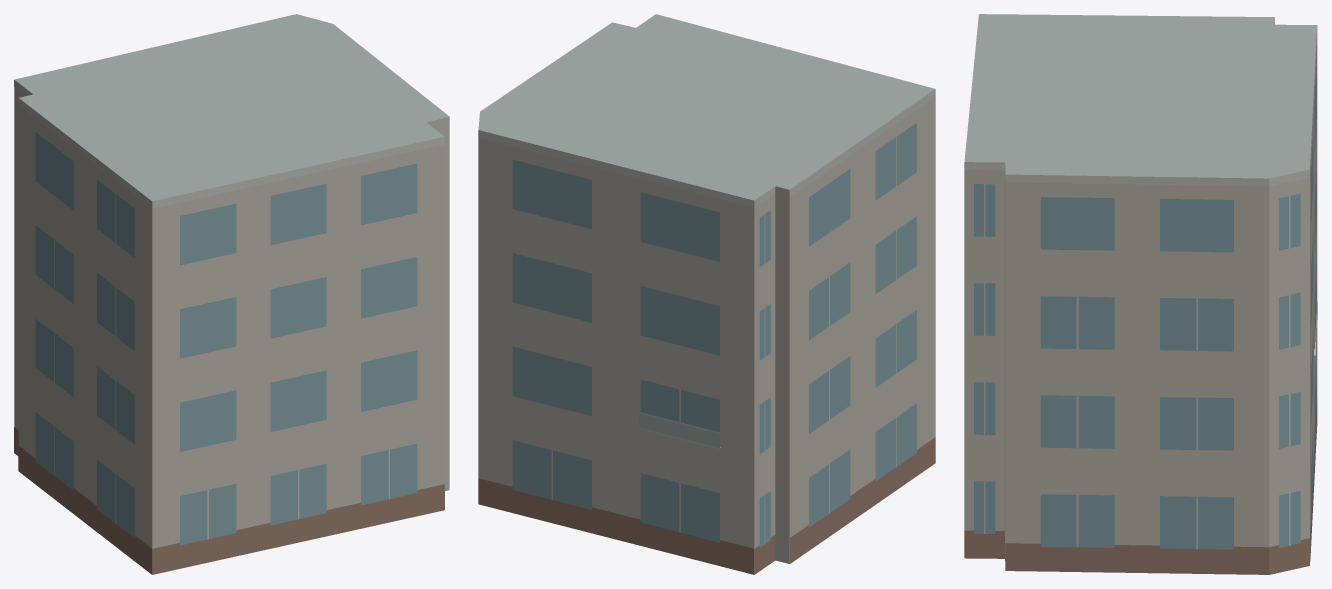
The model's file is survey-upis-32662664.glb.
3 renders of one model, left to right at view 1: azimuth 30°, elevation 25°; view 2: azimuth 150°, elevation 25°; view 3: azimuth 270°, elevation 25°, orthographic. The views are drawn at different scales.
Parts seen in each view (by area): view 1: survey-upis-32662664.tmp; view 2: survey-upis-32662664.tmp; view 3: survey-upis-32662664.tmp.
Part boxes in pixels (x1,y1,x2,y2): survey-upis-32662664.tmp: (14, 14, 449, 574); survey-upis-32662664.tmp: (478, 14, 935, 574); survey-upis-32662664.tmp: (964, 14, 1317, 574).
Bounding box in the file's own units: 10.87 × 12.2 × 9.86.
